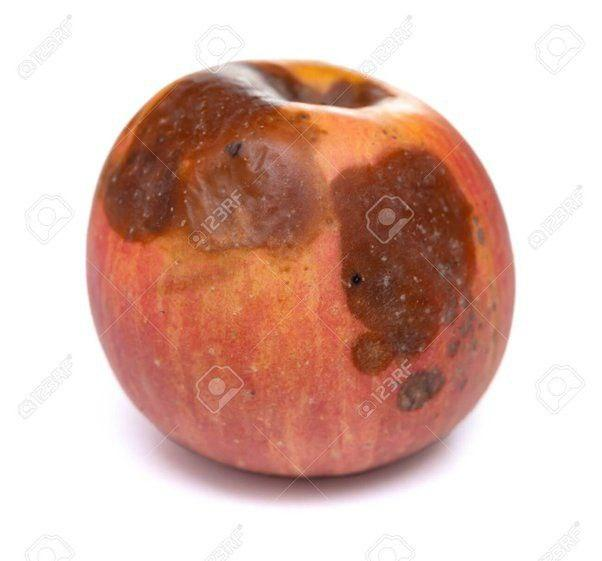Apple: (87, 59, 516, 482)
